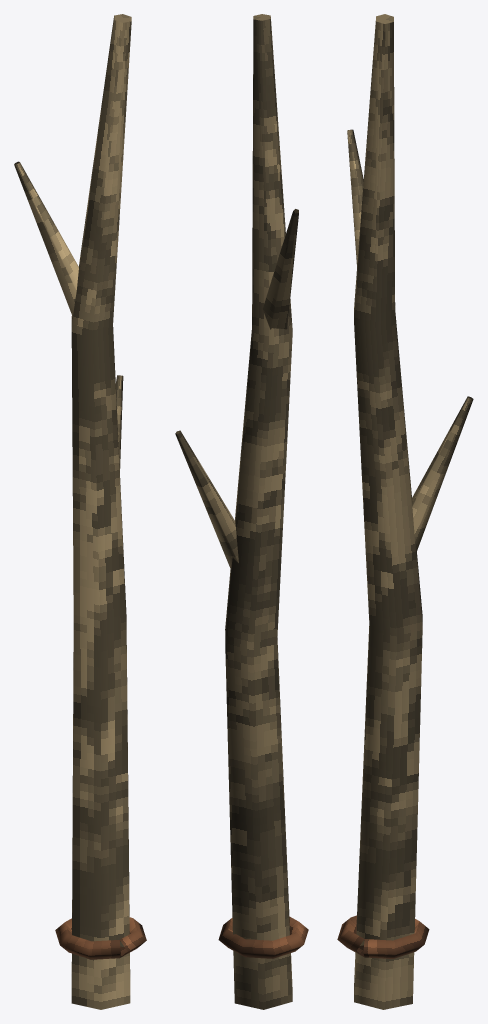
File: antler_wand.glb
3 renders of one model, left to right at view 1: azimuth 30°, elevation 25°; view 2: azimuth 150°, elevation 25°; view 3: azimuth 330°, elevation 25°, orthographic. The views are drawn at different scales.
Parts seen in each view (by area): view 1: antler_wand; view 2: antler_wand; view 3: antler_wand.
Part boxes in pixels (x1,y1,x2,y2): antler_wand: (14,14,146,1009); antler_wand: (175,14,308,1009); antler_wand: (337,14,473,1009).
Bounding box in the file's own units: 0.0398 × 0.3206 × 0.0347.
1 material, 1 textured.
